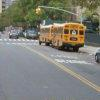Bus: (36, 17, 87, 51)
